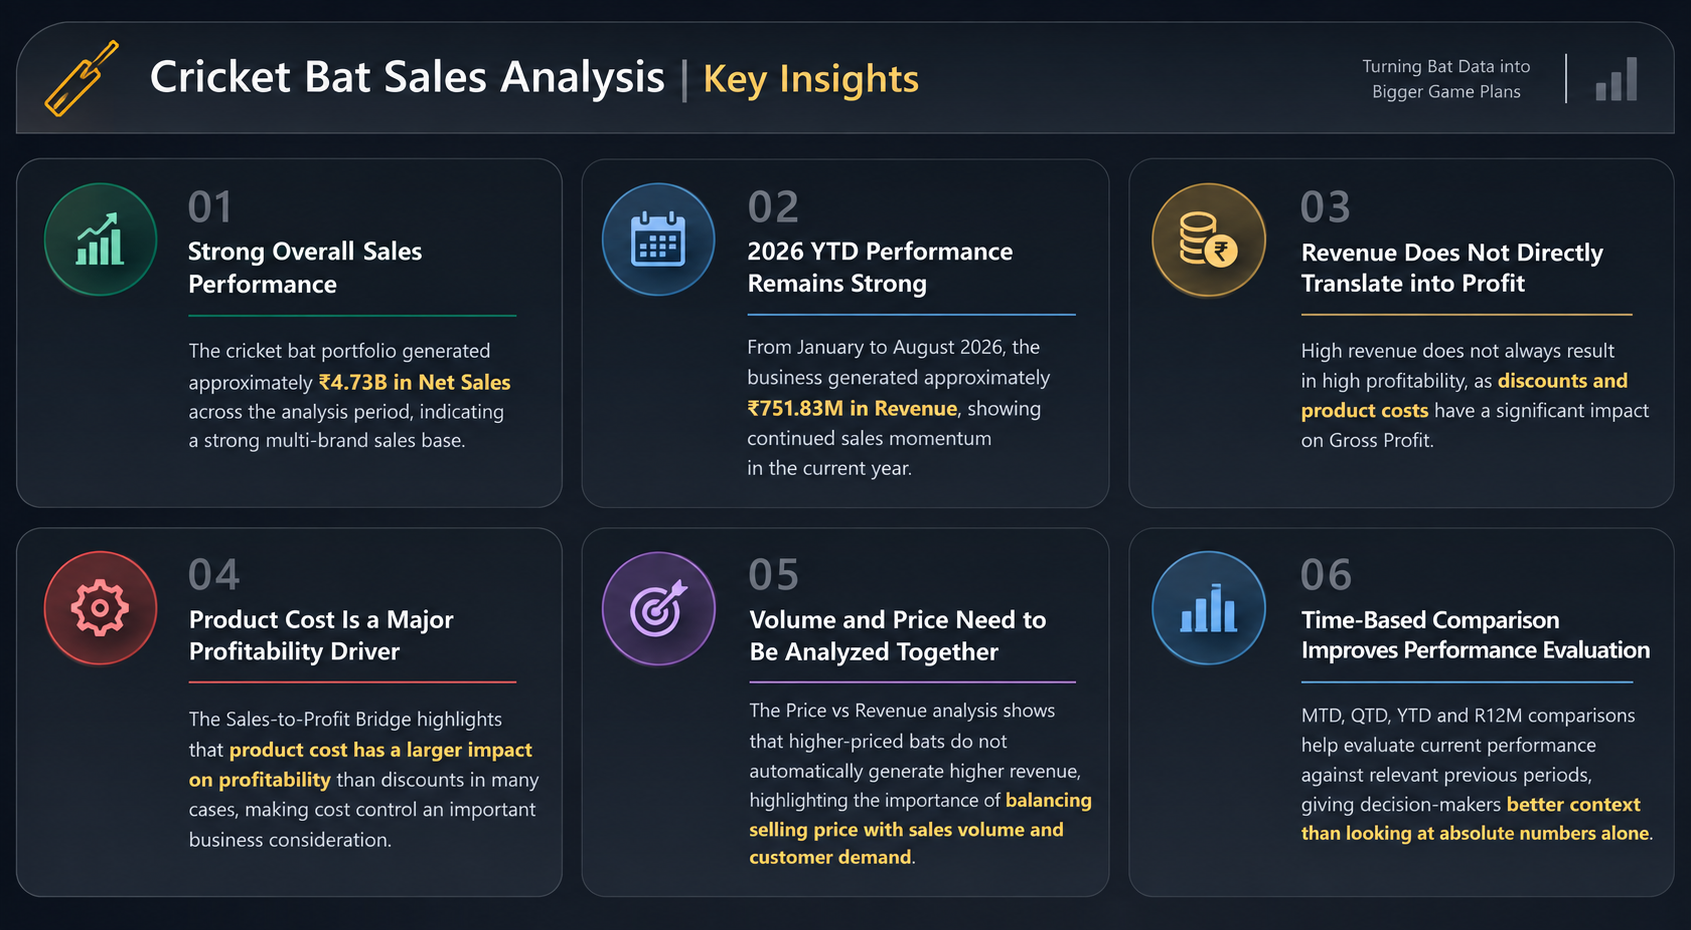

What the dashboard file says about the page in this screenshot:
{"tool":"powerbi","page":{"name":"Key Insights","canvas":[2000,1100],"ordinal":1},"visuals":[{"type":"textbox","box":[16,736,400,64],"z":0}]}

Visuals, with their boxes in screenshot pixels (x1, y1, x2, y2), scaled from the page's 2000x1100 canvas onto the 1691x930 screenshot:
textbox: BBox(14, 622, 352, 676)
